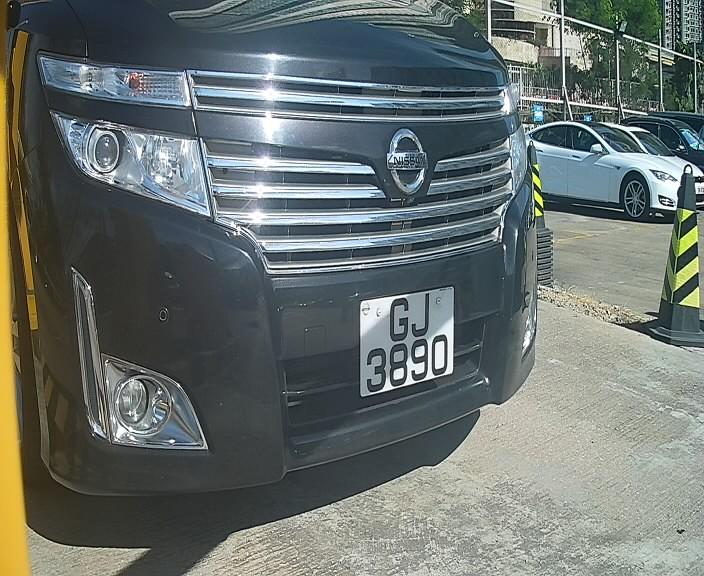License Plate: (356, 278, 466, 404)
